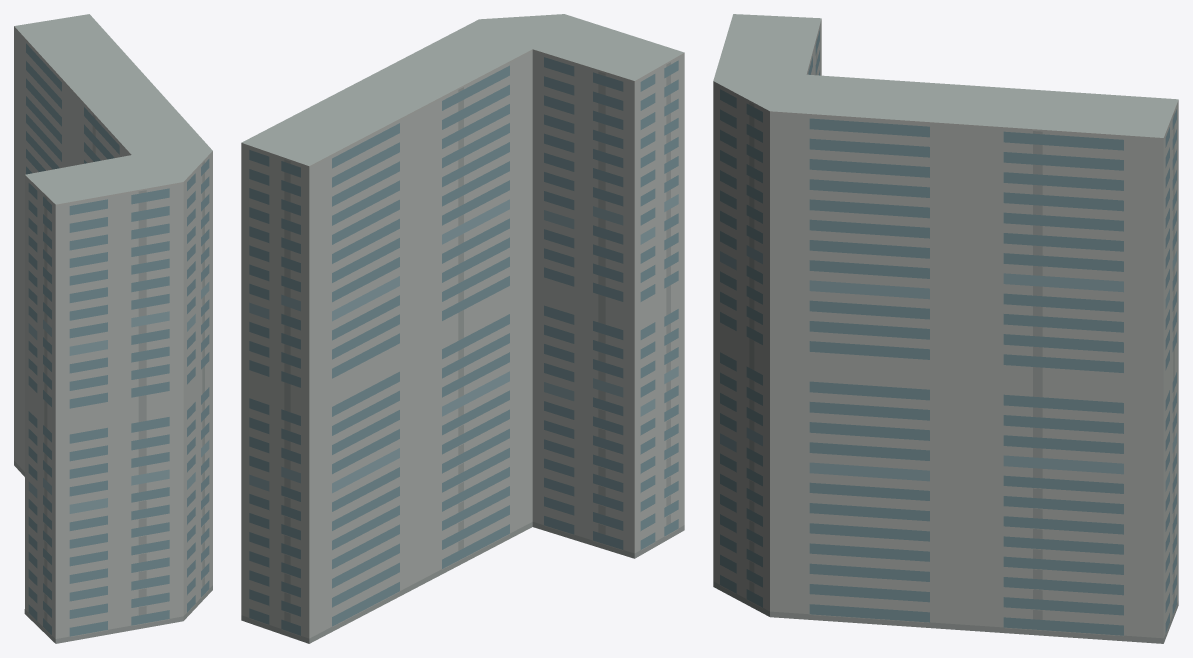
The model's file is residential-ebbd823f-2b3e-4c6f-9261-3361eabc42f8.glb.
The picture shows the model from 3 angles, left to right: view 1: azimuth 30°, elevation 25°; view 2: azimuth 150°, elevation 25°; view 3: azimuth 270°, elevation 25°; orthographic projection. The views are drawn at different scales.
Parts seen in each view (by area): view 1: residential-ebbd823f-2b3e-4c6f-9261-3361eabc42f8.tmp; view 2: residential-ebbd823f-2b3e-4c6f-9261-3361eabc42f8.tmp; view 3: residential-ebbd823f-2b3e-4c6f-9261-3361eabc42f8.tmp.
Part boxes in pixels (x1,y1,x2,y2): residential-ebbd823f-2b3e-4c6f-9261-3361eabc42f8.tmp: [14, 14, 212, 643]; residential-ebbd823f-2b3e-4c6f-9261-3361eabc42f8.tmp: [241, 14, 684, 643]; residential-ebbd823f-2b3e-4c6f-9261-3361eabc42f8.tmp: [713, 14, 1178, 643].
Size of the model in its own units: 36.3 by 69 by 57.55.
